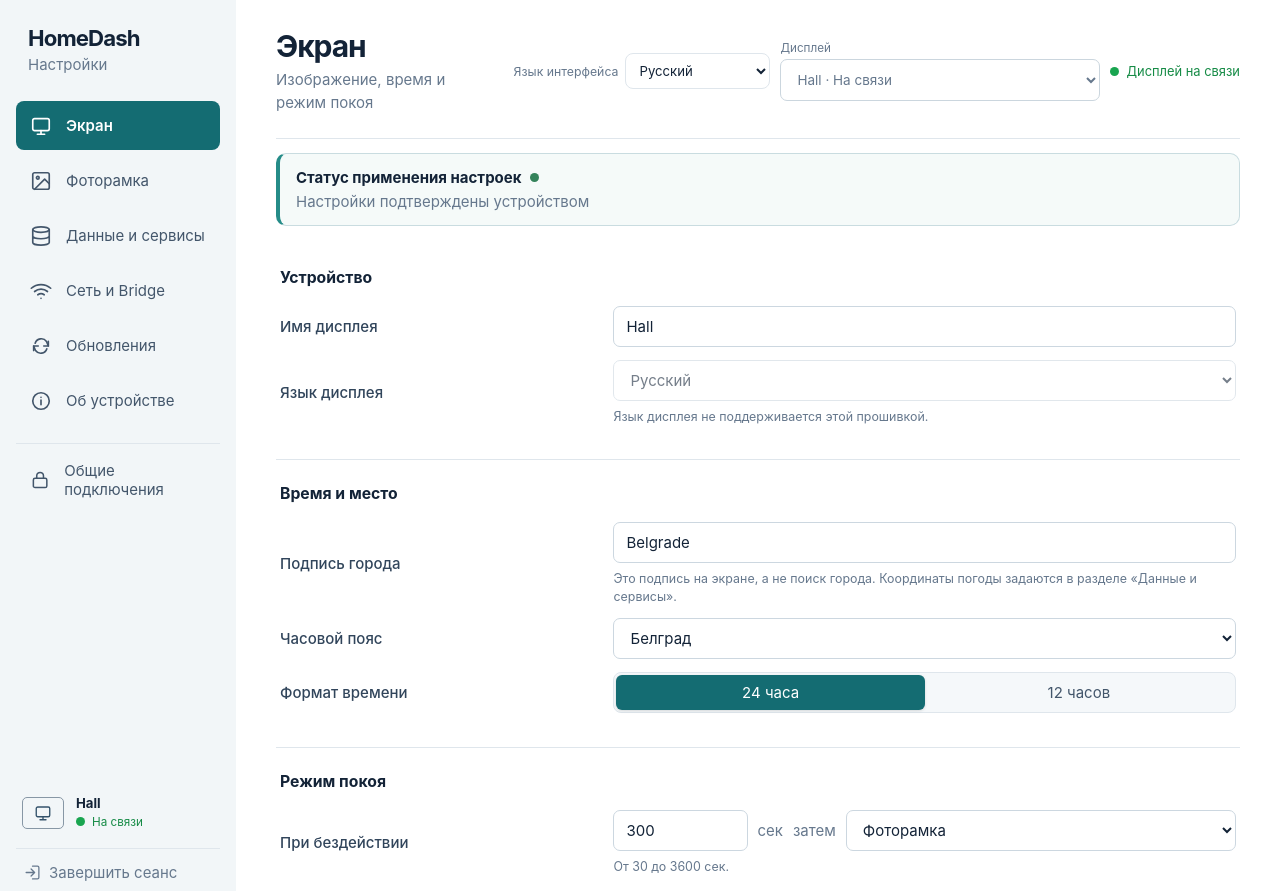
multi-display shell › does not infer success or failure for a write-only key from unchanged settings
Expected: the field named "Подпись города" is shown, [614,522,1236,562]
Click the button "Сеть и Bridge": point(118, 290) [16,266,220,315]
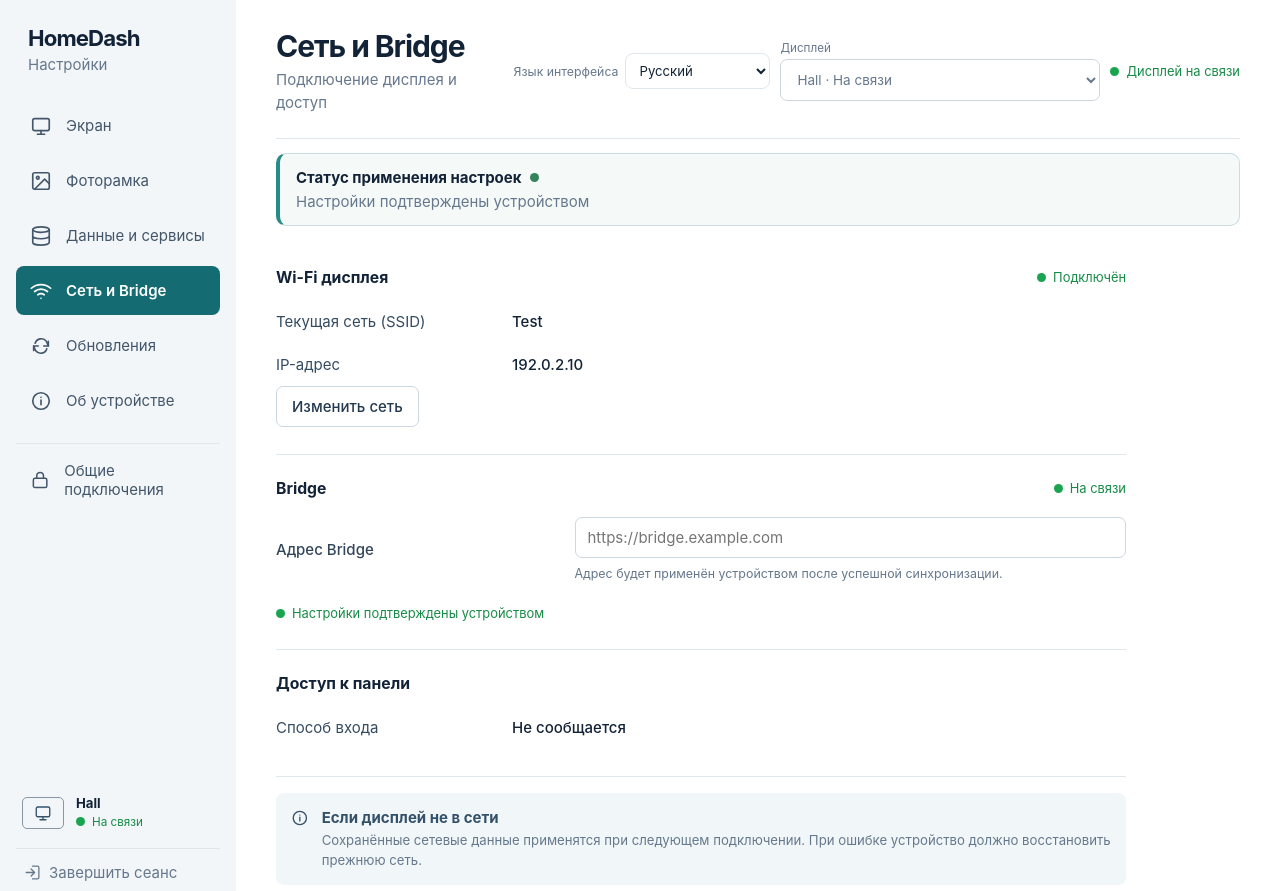
Click the button "Изменить сеть": point(347, 406) [276,386,419,426]
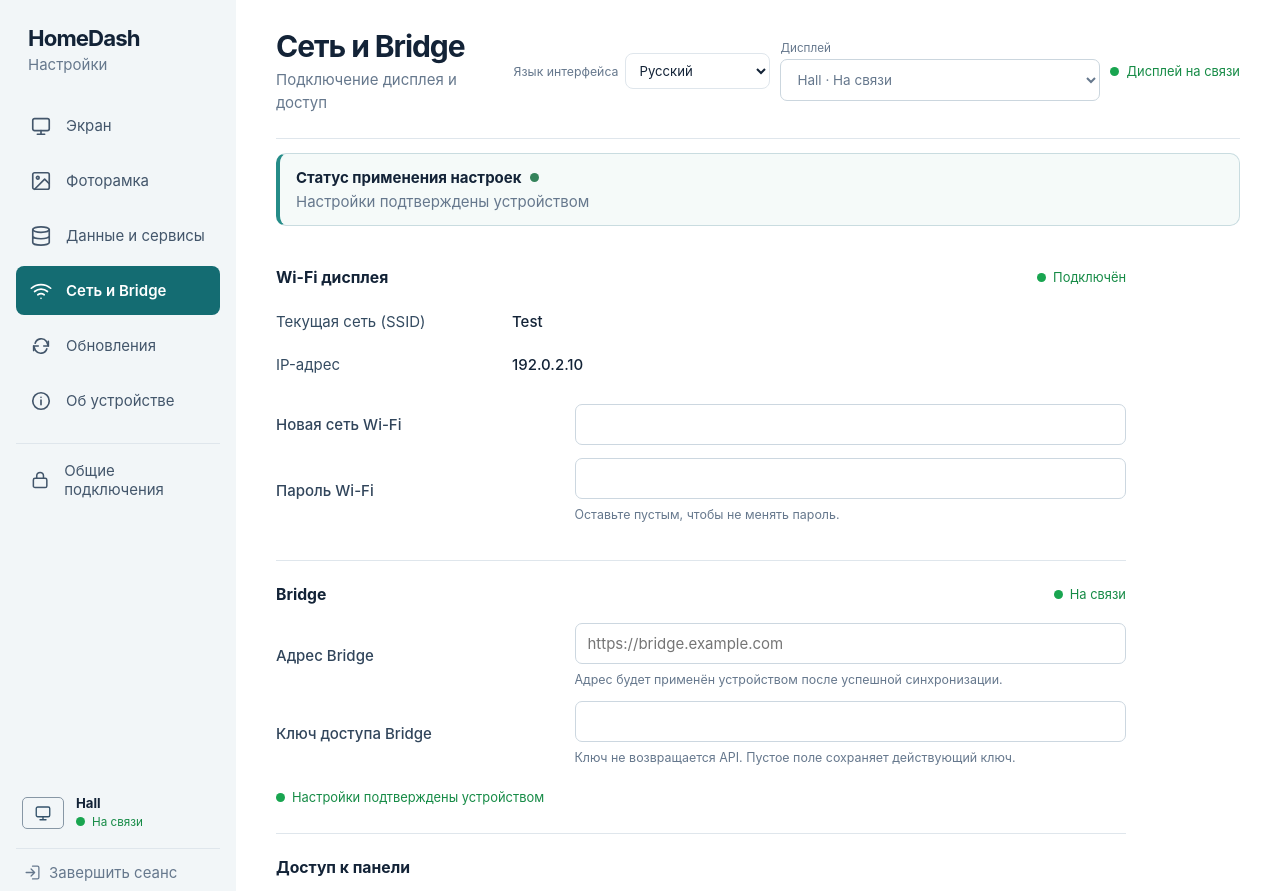
In the password field named "Пароль Wi-Fi": point(850, 478) [574,458,1126,498], type "write-only-test"
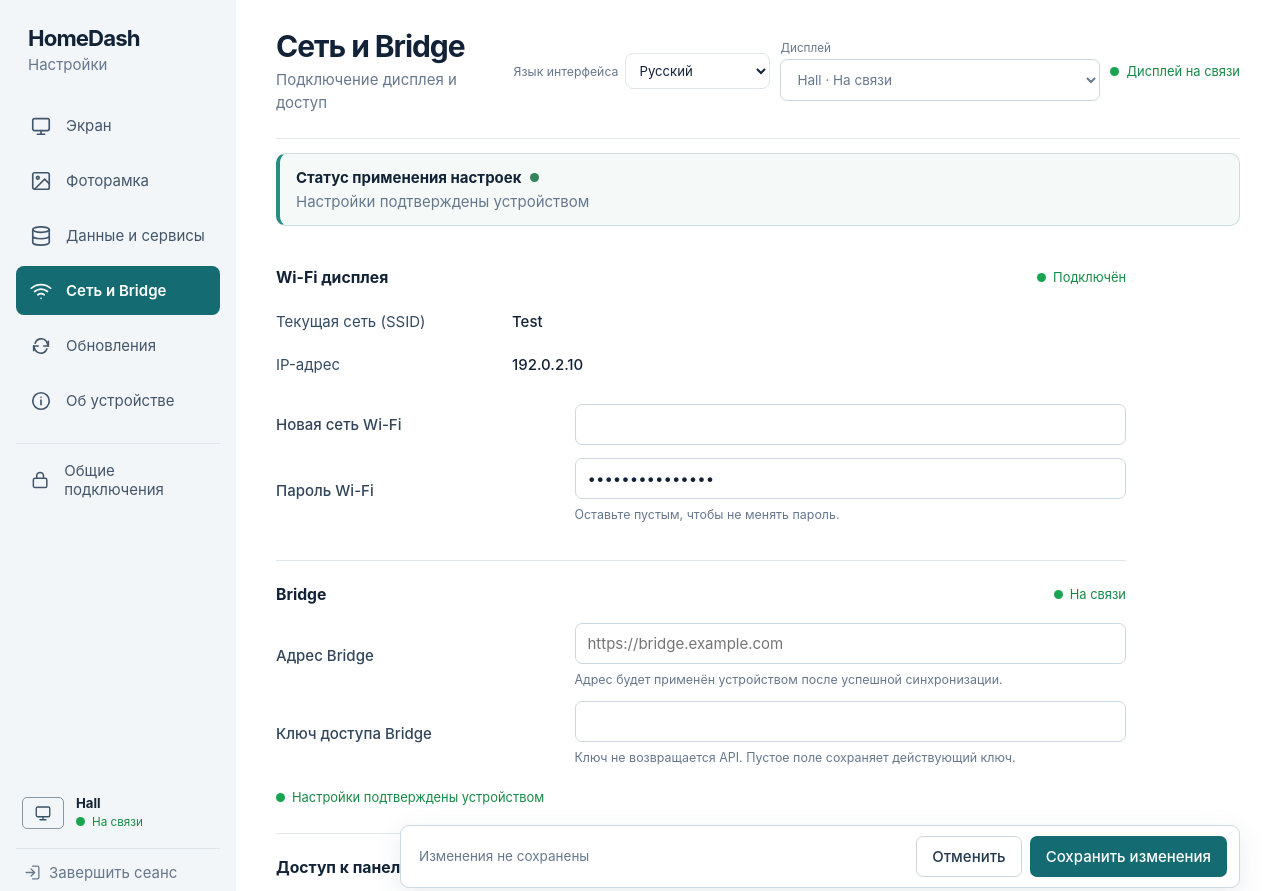
Click the button "Сохранить изменения": point(1128, 856) [1030,836,1227,877]
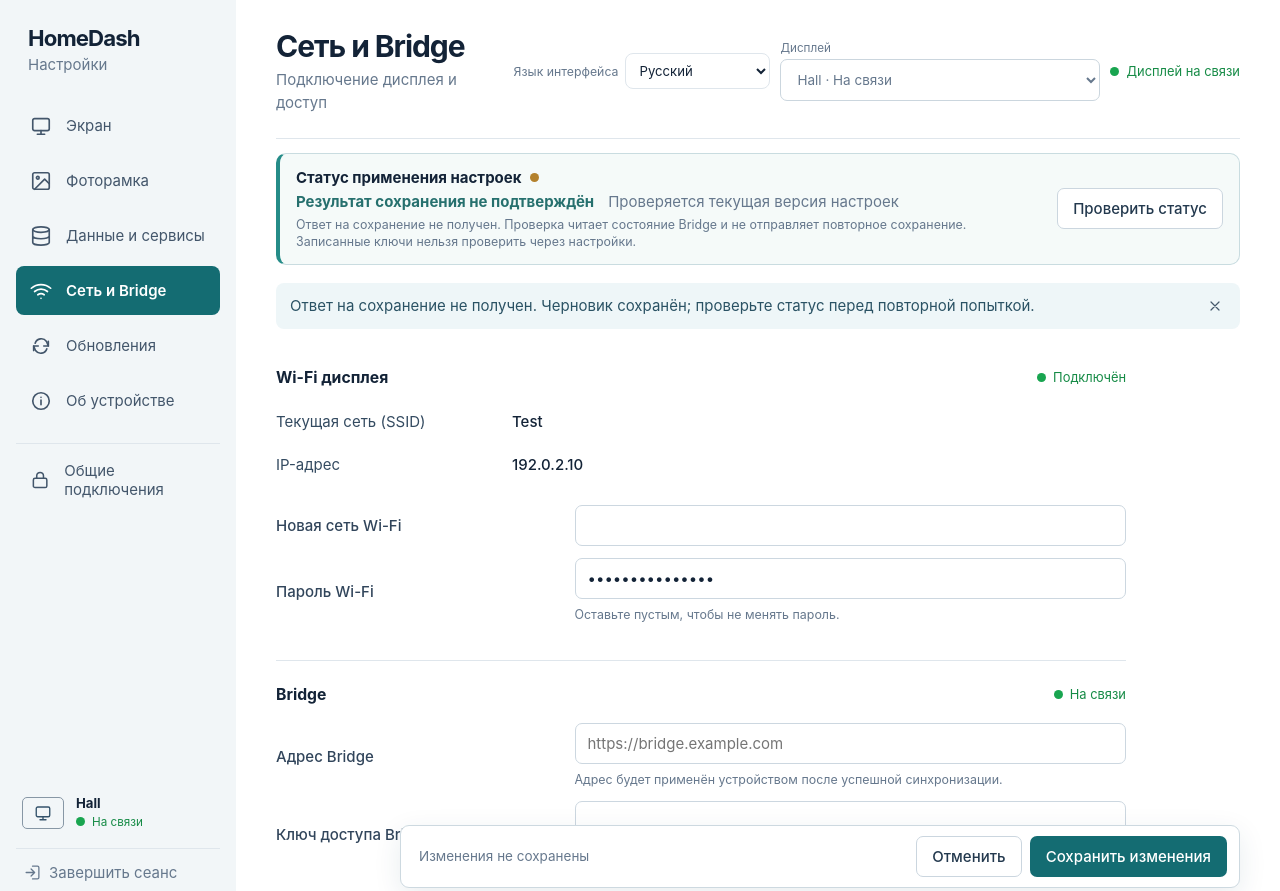
Expected: the text "Результат сохранения не подтверждён" is shown, [296,192,594,210]
Expected: the text "Записанные ключи нельзя проверить через настройки" is shown, [296,216,966,249]
